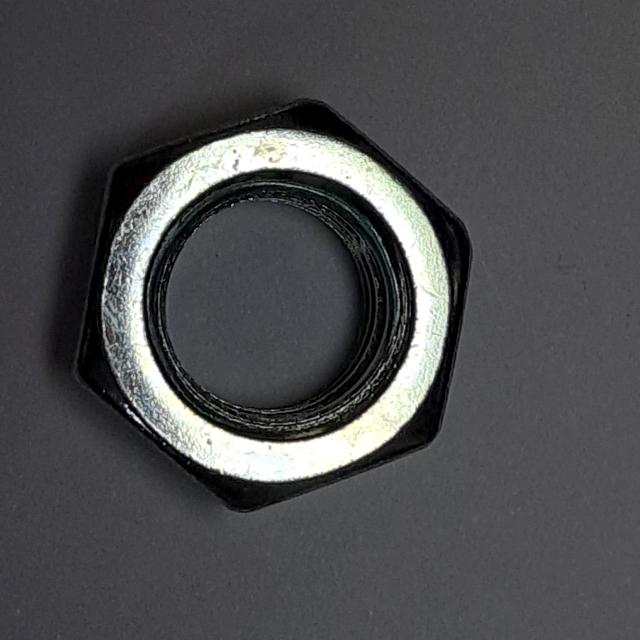Excellent: (66, 83, 485, 529)
